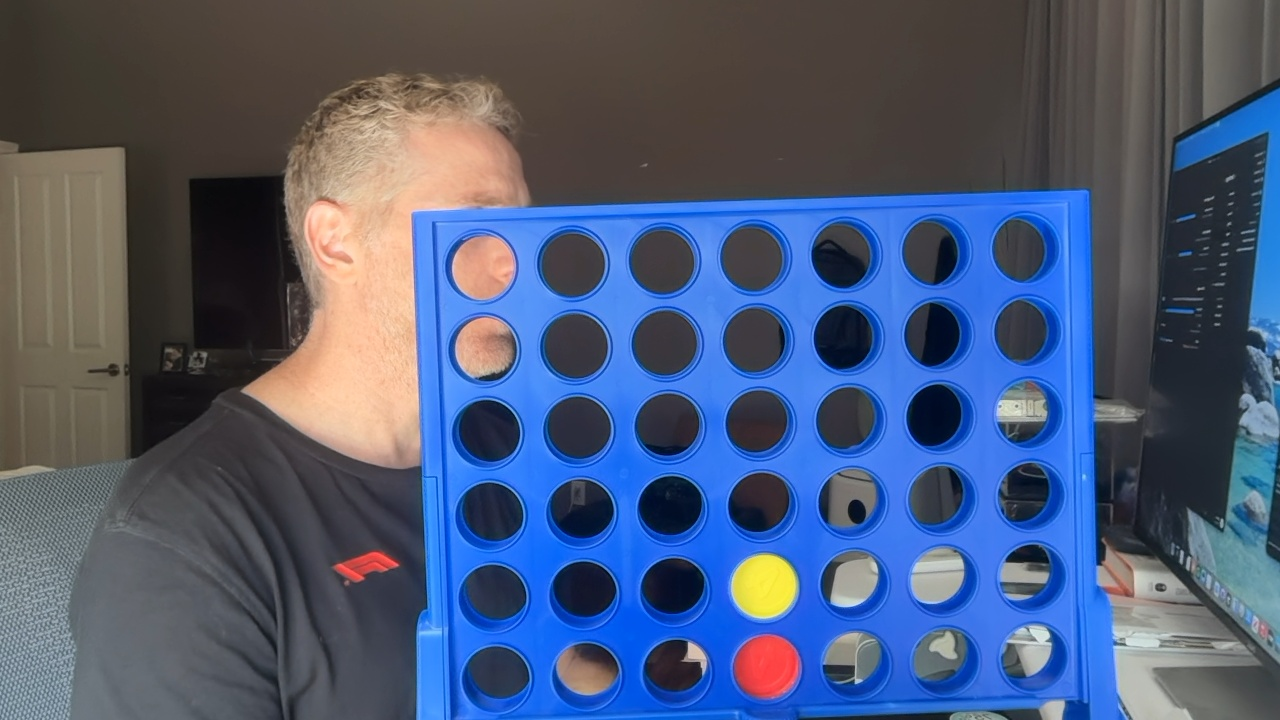red piece: (733, 635, 799, 699)
yellow piece: (731, 553, 798, 619)
